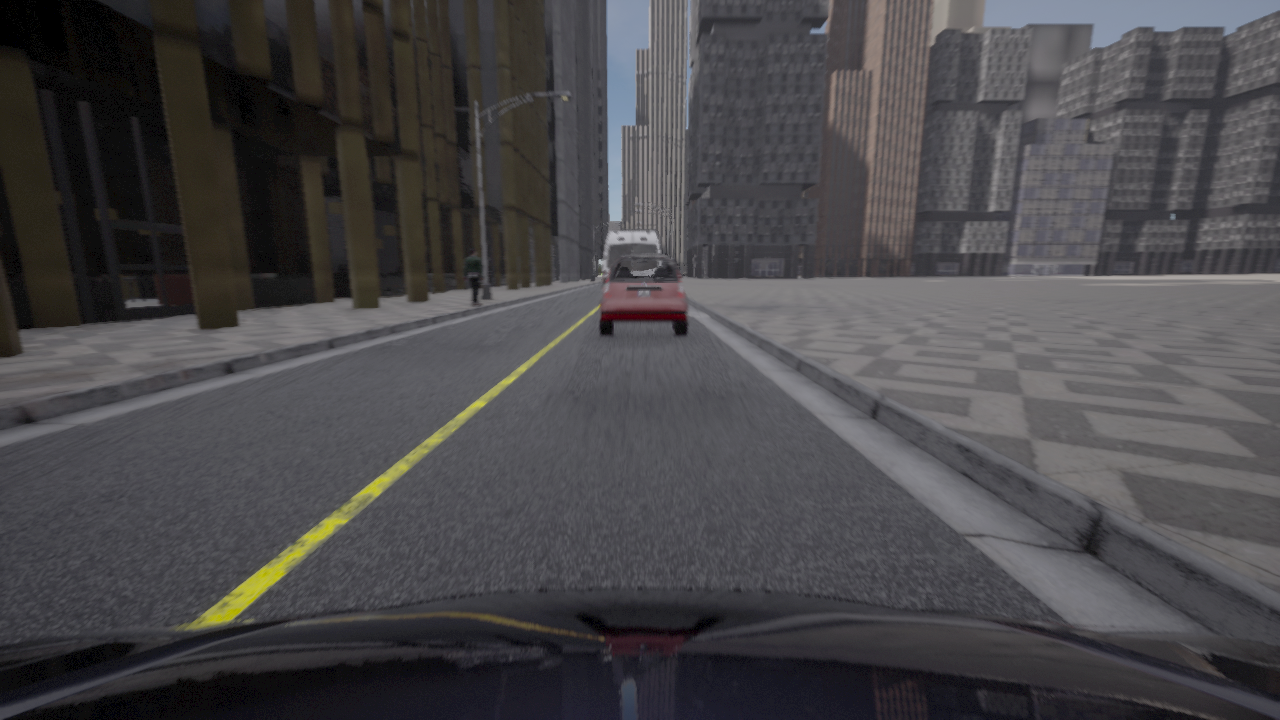cyclist: (0, 588, 1279, 719), (600, 254, 687, 334), (602, 230, 660, 292)
pedestrian: (464, 248, 484, 305)
